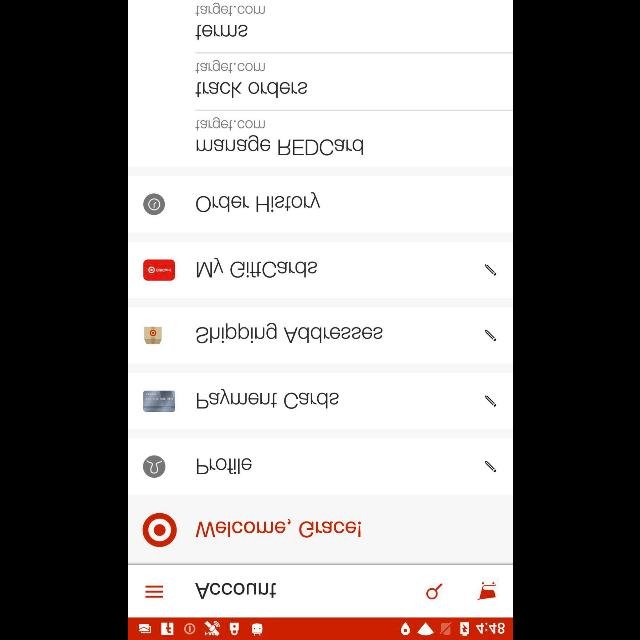icon: (142, 454, 166, 478), (143, 193, 165, 215), (476, 582, 496, 600), (426, 583, 442, 599), (144, 584, 162, 598), (484, 264, 496, 276), (484, 329, 496, 341), (484, 460, 496, 472), (484, 396, 496, 406)
image: (148, 514, 170, 548), (143, 259, 175, 281), (142, 391, 174, 412), (144, 327, 162, 345)
text: (195, 322, 382, 343), (195, 134, 362, 156), (194, 518, 360, 538), (196, 388, 338, 408), (195, 192, 319, 212), (196, 258, 316, 278), (195, 82, 307, 98), (195, 583, 275, 599), (195, 2, 265, 16), (195, 60, 265, 74), (196, 458, 252, 474), (195, 118, 265, 130), (195, 24, 247, 40)
toolbar: (128, 564, 512, 616)
uppertaskbar: (128, 617, 512, 639)
